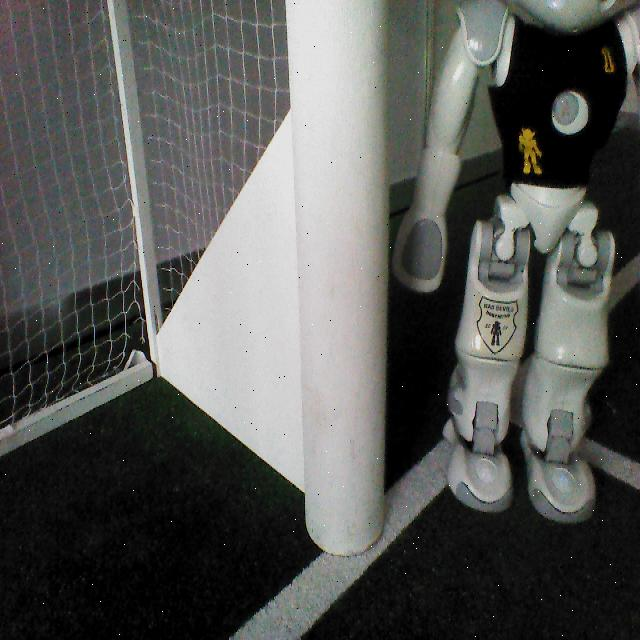goalpost: (286, 2, 388, 546)
